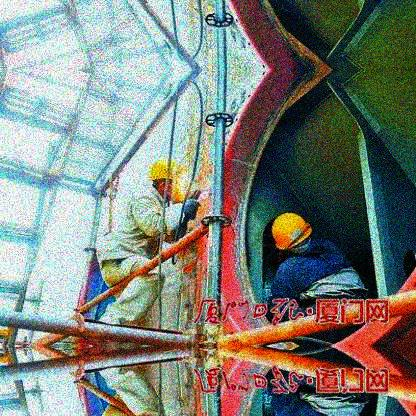helmet: (271, 212, 312, 258), (149, 158, 184, 204)
